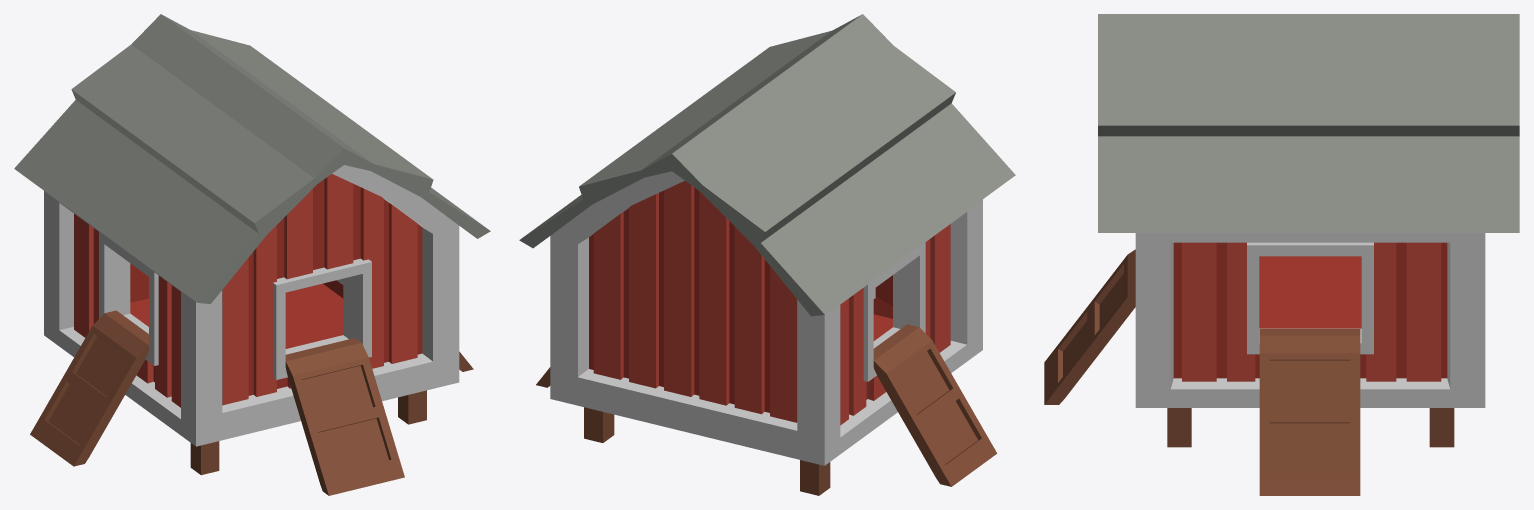
Rendered from chicken-coop.glb.
3 renders of one model, left to right at view 1: azimuth 30°, elevation 25°; view 2: azimuth 150°, elevation 25°; view 3: azimuth 270°, elevation 25°, orthographic. The views are drawn at different scales.
Visible parts, largest first — view 1: ChickenCoop; view 2: ChickenCoop; view 3: ChickenCoop.
Part boxes in pixels (x1,y1,x2,y2): ChickenCoop: [14, 14, 490, 495]; ChickenCoop: [519, 14, 1015, 495]; ChickenCoop: [1044, 14, 1519, 495].
Size of the model in its own units: 2.41 by 1.85 by 2.15.
